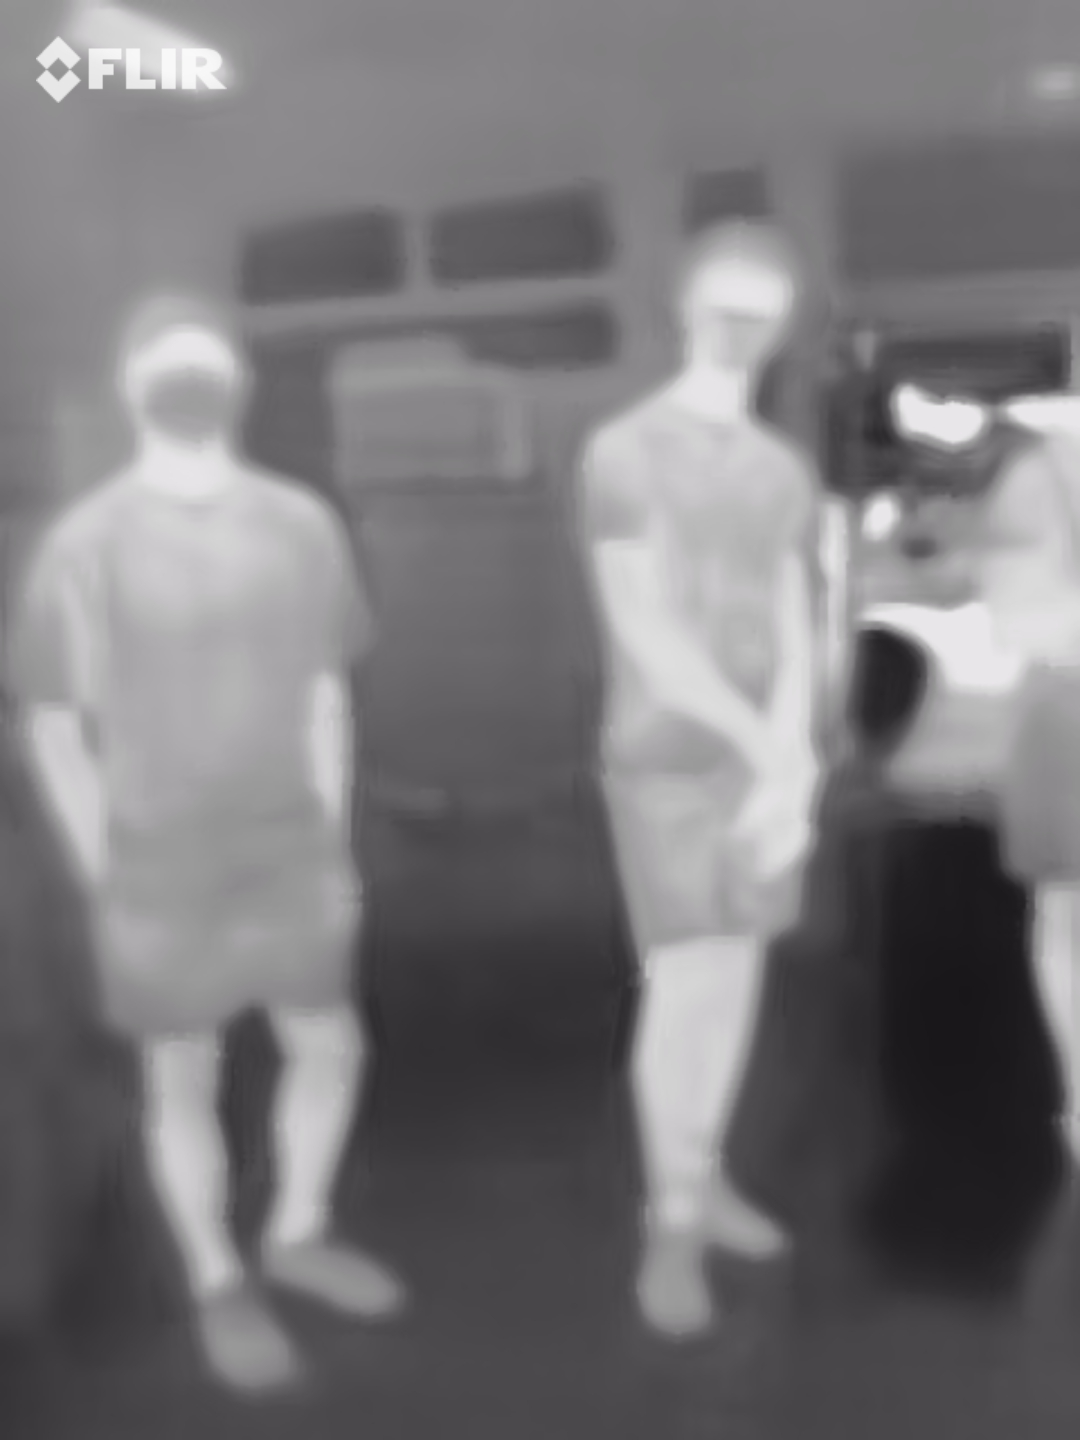head: (110, 294, 263, 459), (666, 222, 803, 381)
